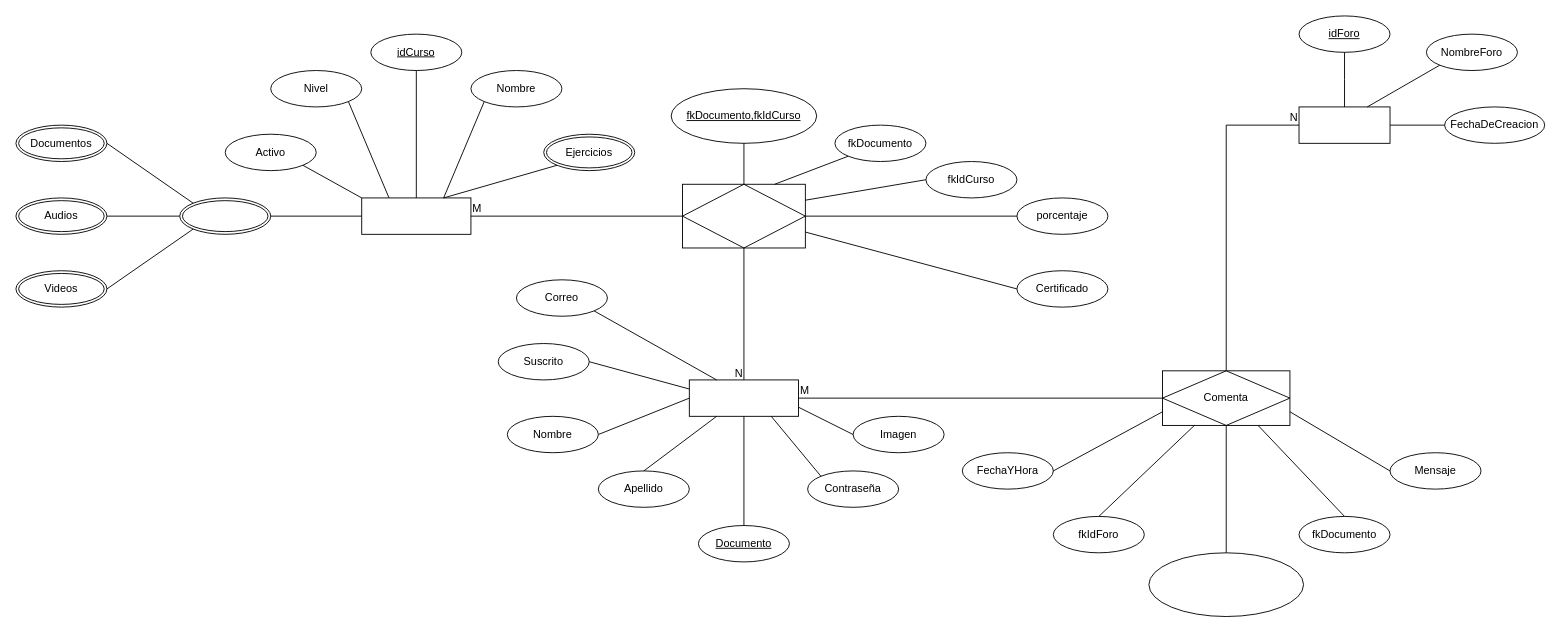
Some shapes in this 1561 by 632 pixel diagram are drawn without their labels. The box of each missing label's shape, as (x1, y1, x2, y2) in pixels:
achivos: (179, 197, 271, 234)
CURSO: (361, 197, 471, 234)
fkDocumento, fkIdForo: (1148, 552, 1304, 617)
FORO: (1298, 106, 1390, 143)
hace: (682, 183, 805, 248)
USUARIO: (688, 379, 799, 416)
